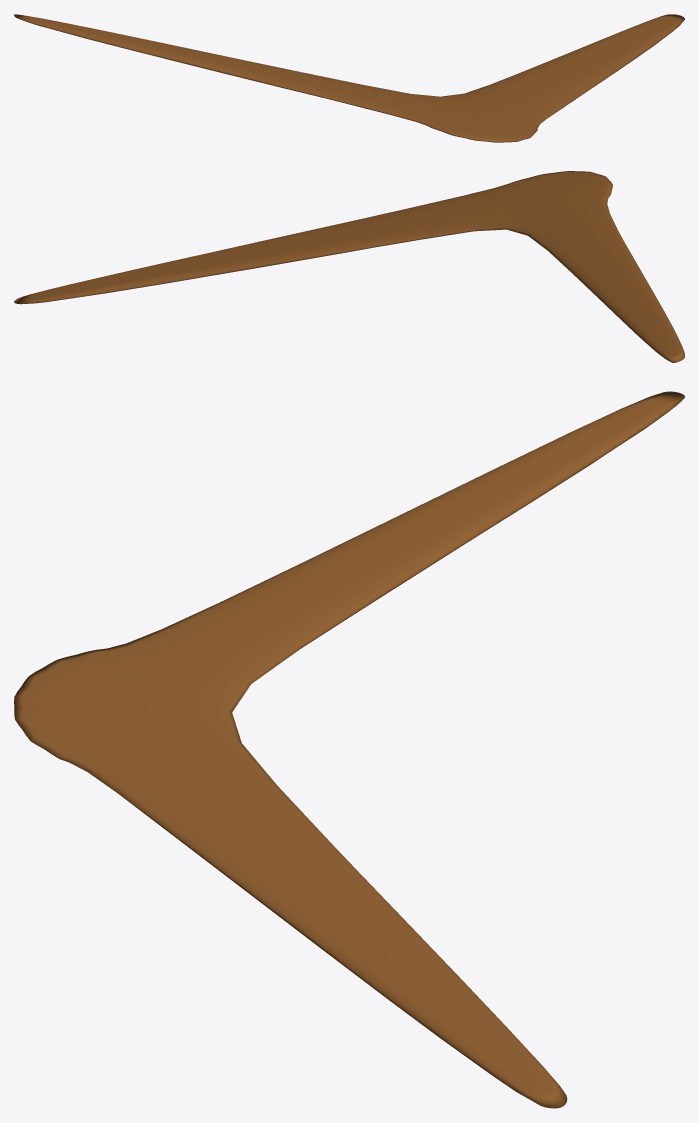
Rendered from boomrang2.glb.
3 renders of one model, top to bottom at view 1: azimuth 30°, elevation 25°; view 2: azimuth 150°, elevation 25°; view 3: azimuth 270°, elevation 25°, orthographic. The views are drawn at different scales.
Visible parts, largest first — view 1: Aerodynamic_Boomerang; view 2: Aerodynamic_Boomerang; view 3: Aerodynamic_Boomerang.
Boxes of the visible parts, box(x1,y1,x2,y2) form: Aerodynamic_Boomerang: box(14, 14, 684, 142); Aerodynamic_Boomerang: box(14, 171, 684, 362); Aerodynamic_Boomerang: box(14, 391, 684, 1108).
Size of the model in its own units: 4.97 by 0.9568 by 2.78.
